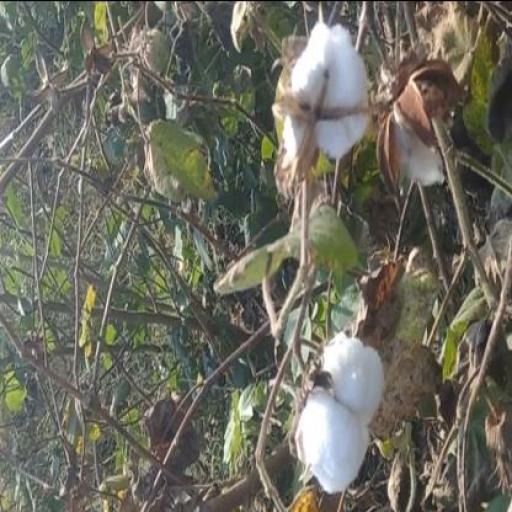cotton_ready: (284, 318, 390, 484), (268, 34, 381, 164)
